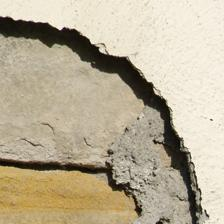Crack: (53, 8, 167, 209), (0, 3, 147, 57), (22, 57, 95, 149)
